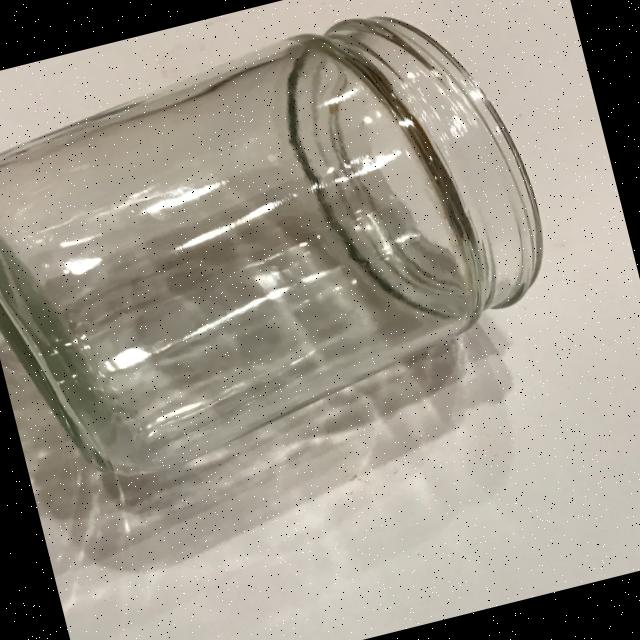glass: (0, 0, 579, 503)
